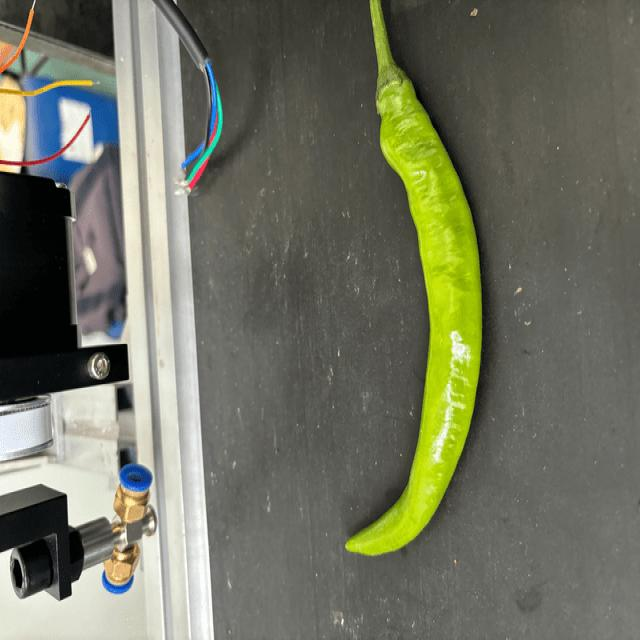chili: (340, 62, 486, 558)
